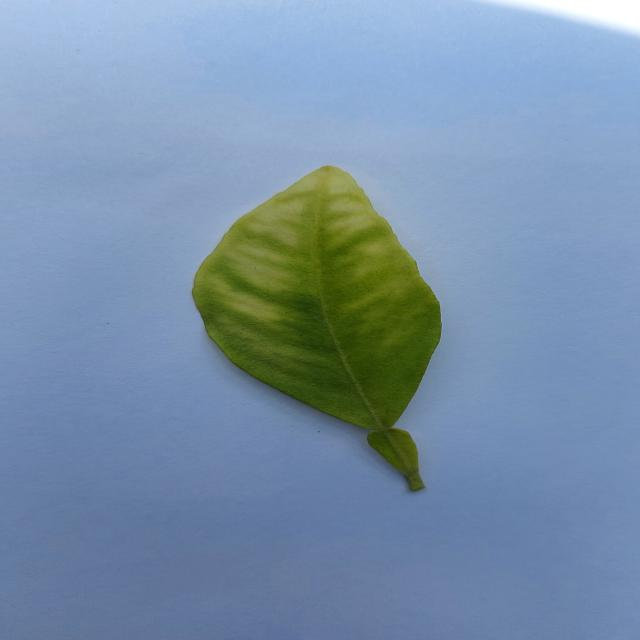greening: (193, 166, 441, 490)
